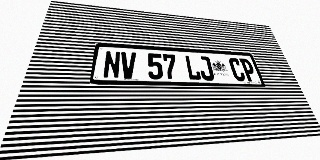5: (147, 53, 164, 80)
7: (162, 54, 178, 80)
C: (228, 58, 247, 81)
J: (197, 56, 215, 81)
L: (184, 55, 202, 80)
N: (102, 51, 121, 79)
P: (239, 58, 258, 82)
V: (120, 52, 136, 79)
